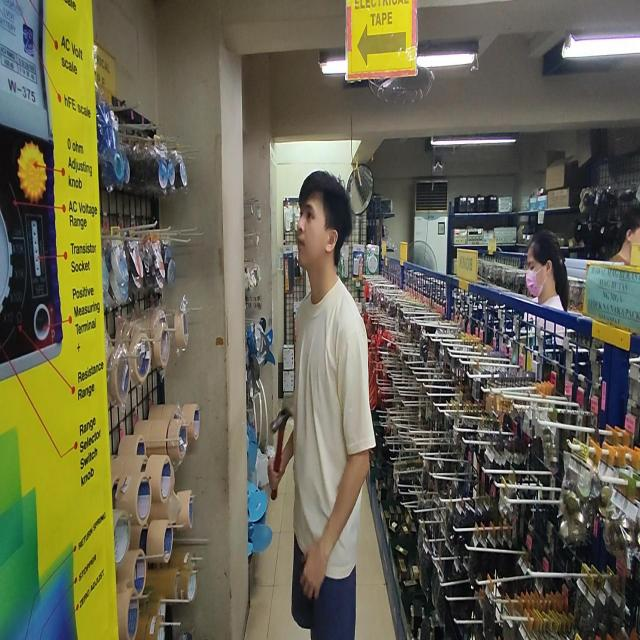hammer: (271, 407, 292, 500)
